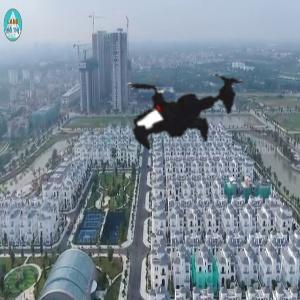drone: (92, 12, 274, 194)
